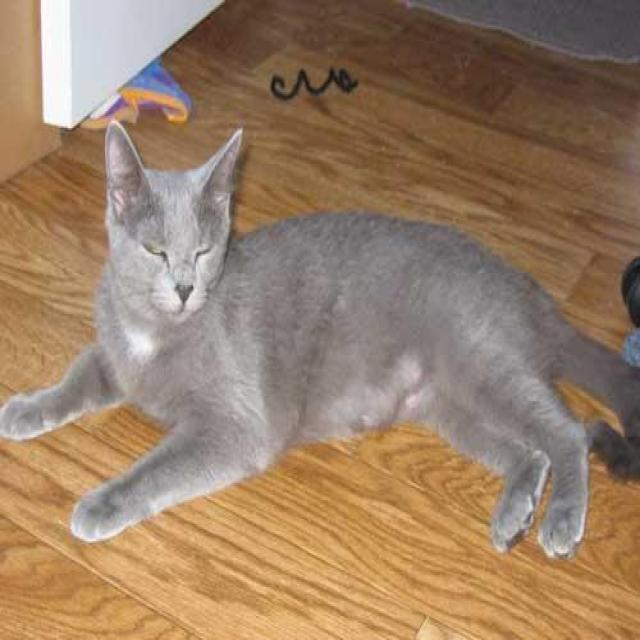cat: (3, 112, 640, 561)
